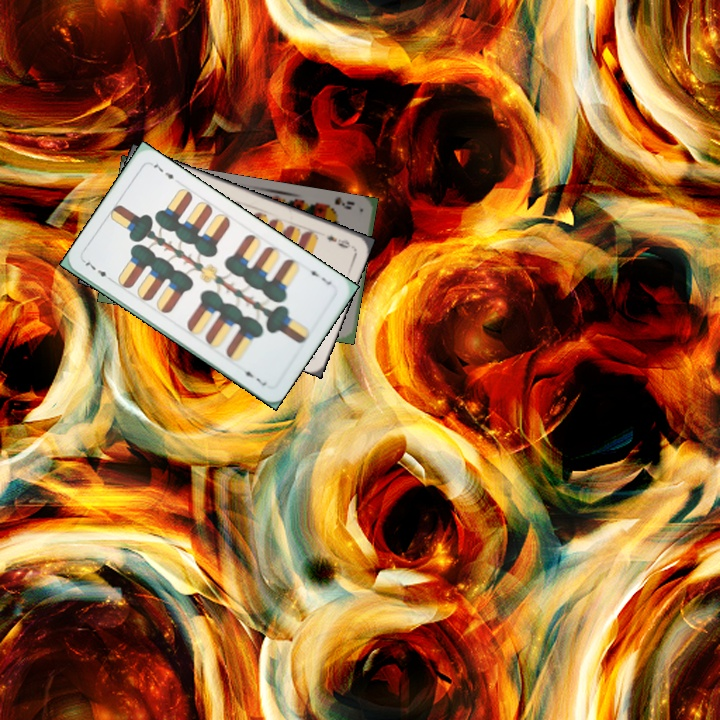E7: (80, 256, 116, 284), (303, 263, 334, 287)
E9: (323, 231, 353, 251)
S9: (320, 194, 357, 214)
